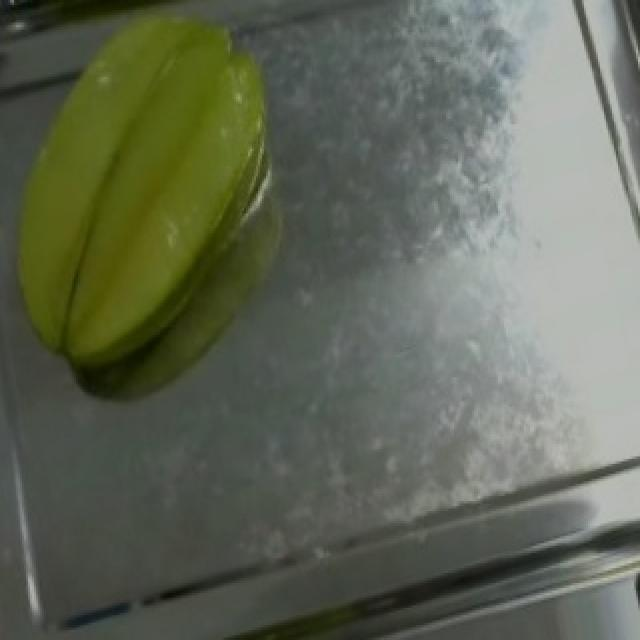fruit: (6, 2, 320, 387)
